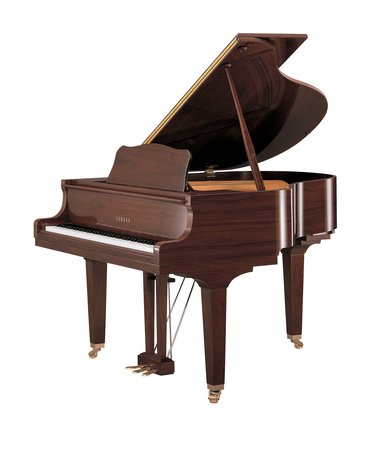GrandPiano: (31, 83, 338, 298)
